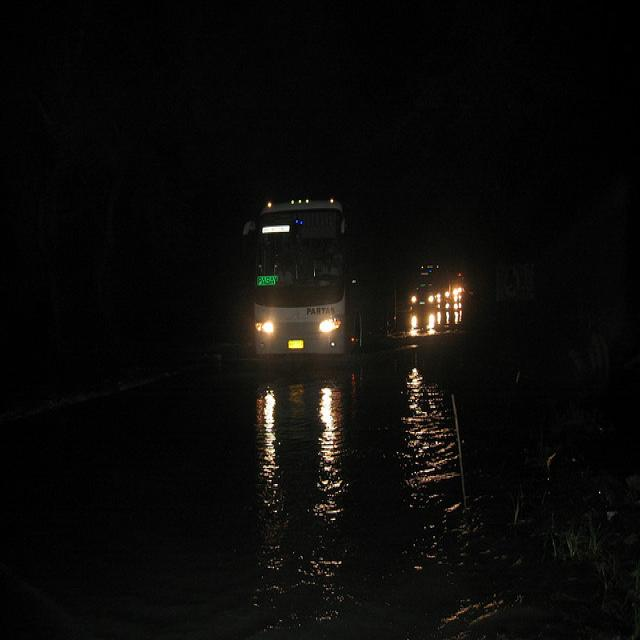Bus: (230, 191, 381, 379)
car: (407, 270, 442, 334), (437, 250, 466, 306)
